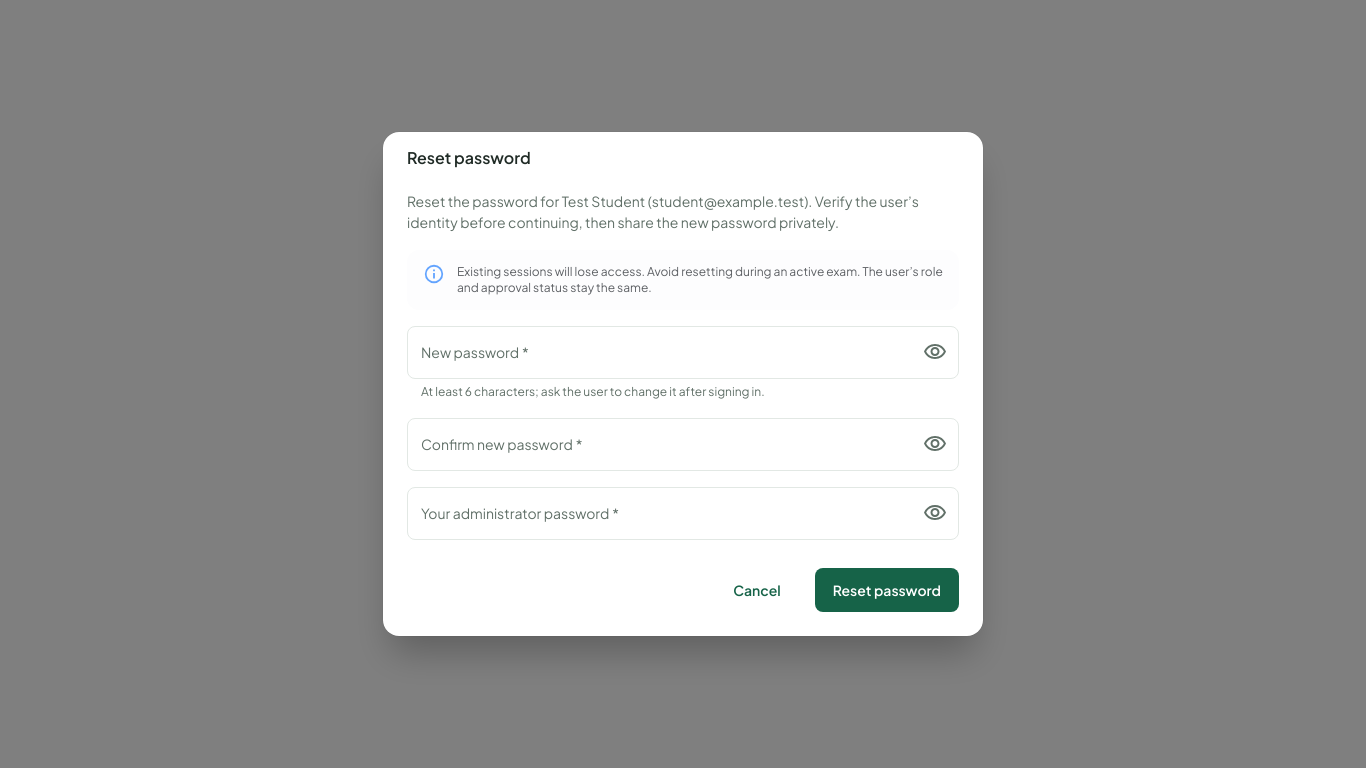
submits the selected account and clears password fields in light mode
The image size is (1366, 768).
Type "new-password" into the password field labelled "New password *" at [656, 352], box [407,326,905,379]
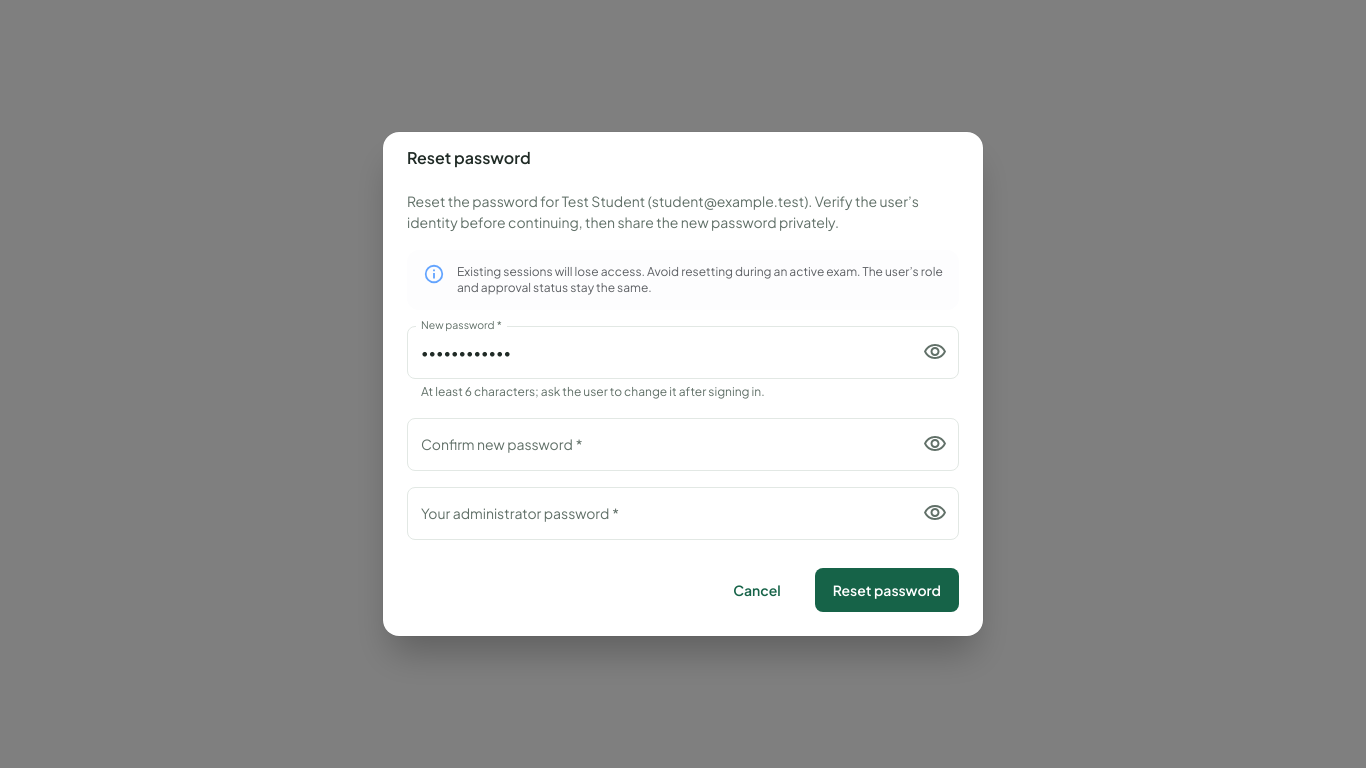
Type "new-password" into the password field labelled "Confirm new password *" at [656, 444], box [407,418,905,471]
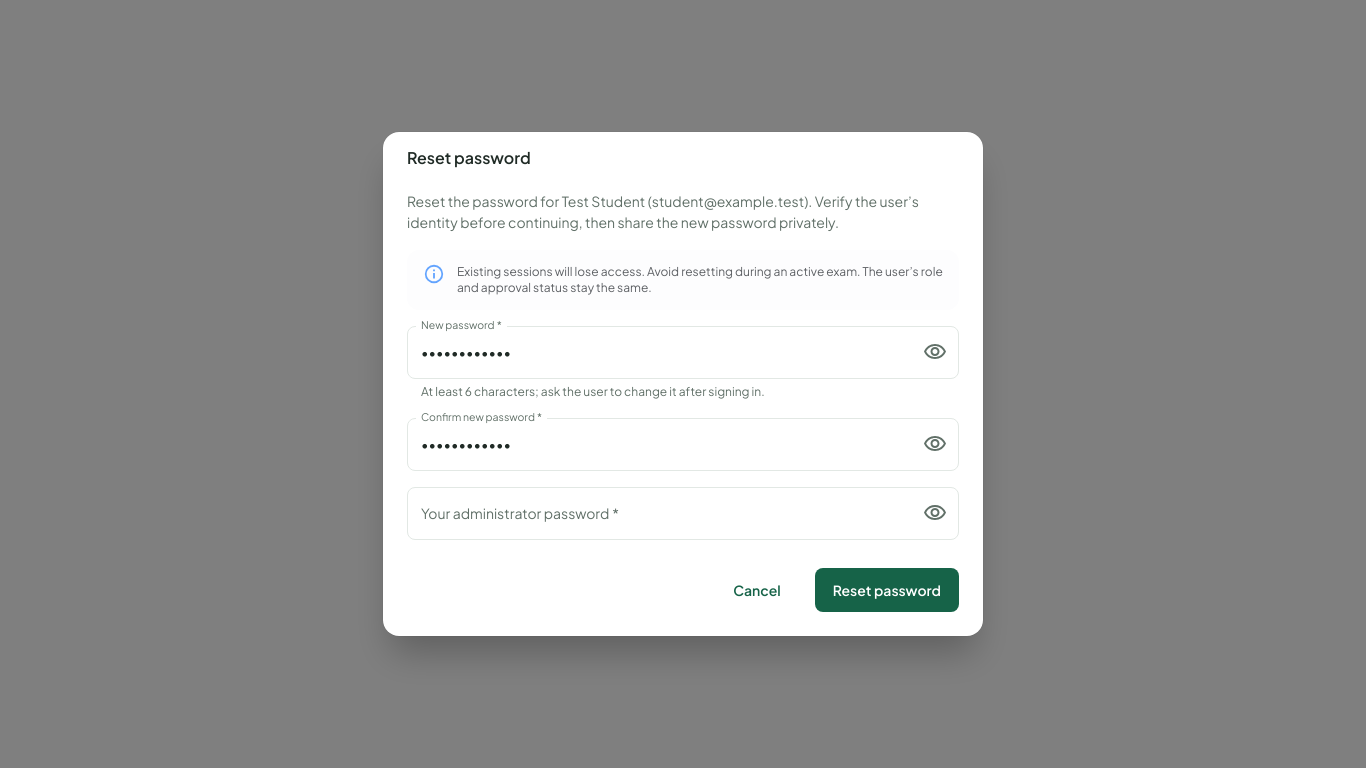
Type "admin-password" into the password field labelled "Your administrator password *" at [656, 513], box [407,487,905,540]
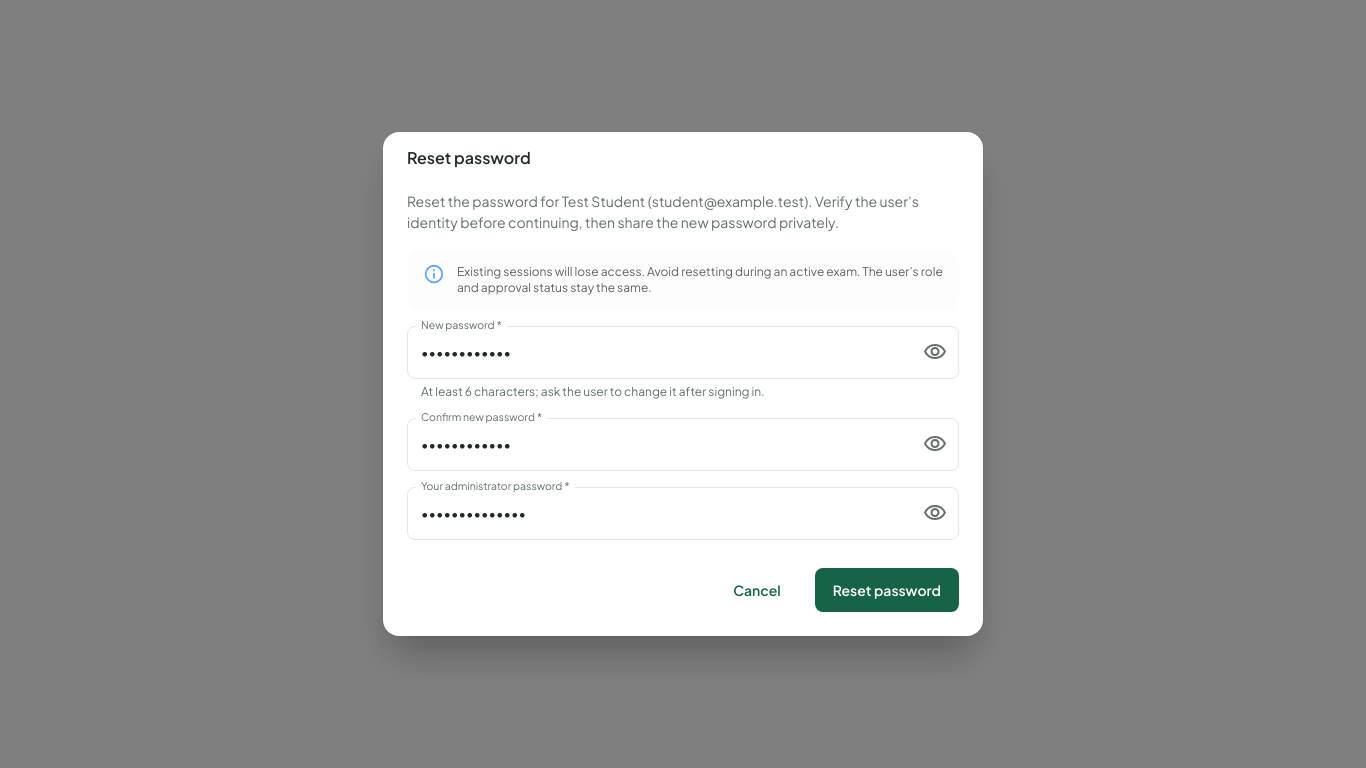
Click the button "Reset password" at [887, 590], box [815,568,959,612]
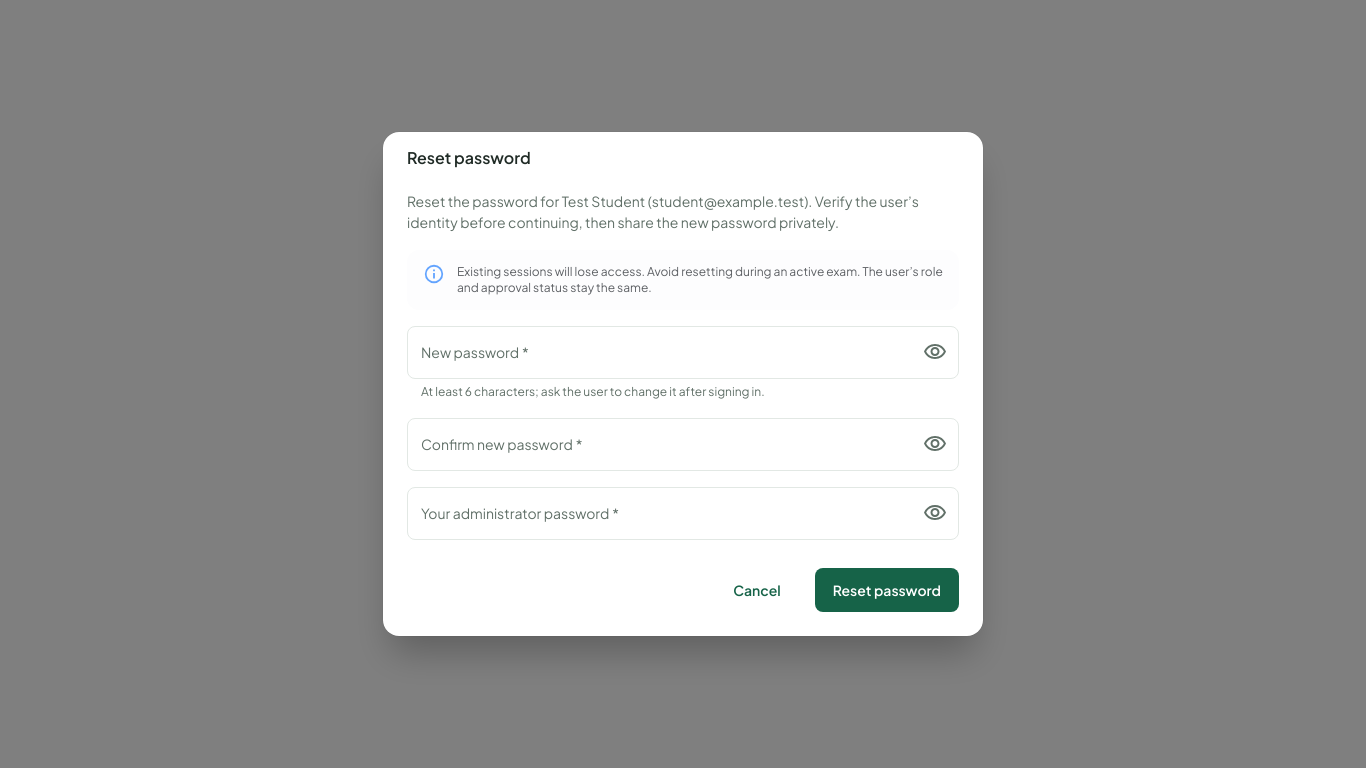
Check: the password field labelled "New password *" is empty, box [407,326,905,379]
Check: the password field labelled "Your administrator password *" is empty, box [407,487,905,540]
